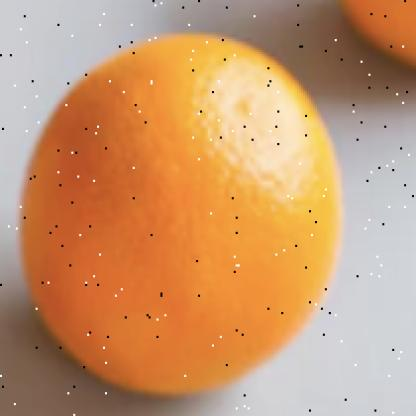fresh: (20, 29, 342, 395)
